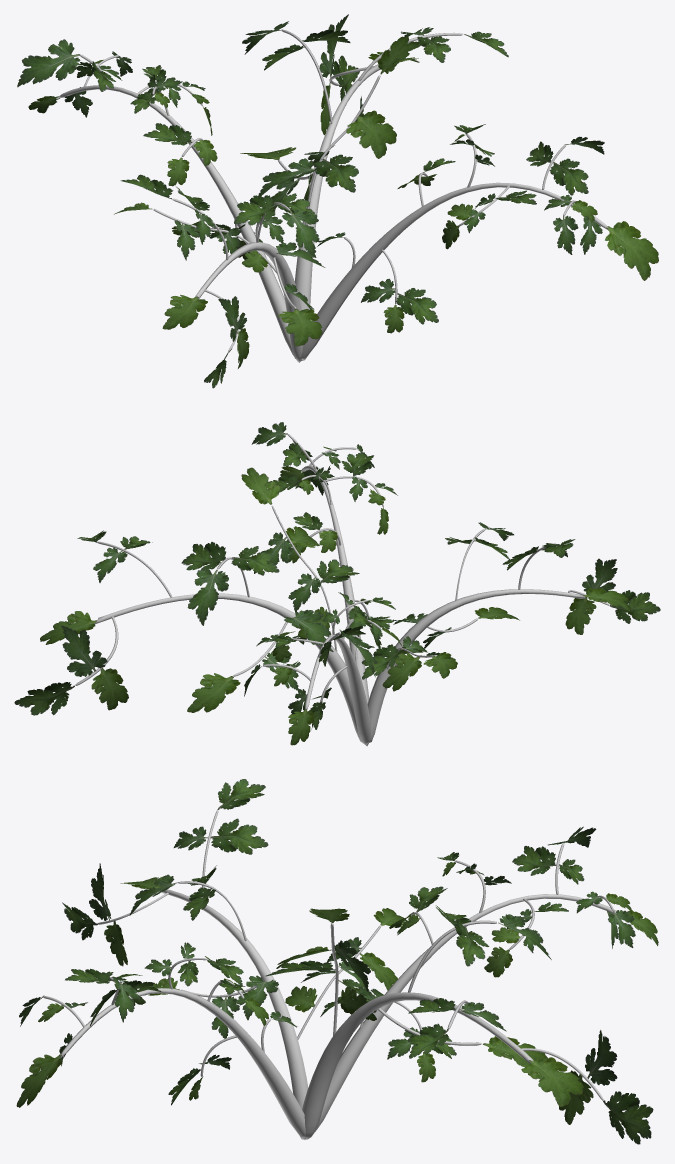
The model's file is folliage_01.FBX.
3 views of the same model, one above another, from view 1: azimuth 30°, elevation 25°; view 2: azimuth 150°, elevation 25°; view 3: azimuth 270°, elevation 25° (orthographic). The views are drawn at different scales.
Parts seen in each view (by area): view 1: Leaf_A_011; view 2: Leaf_A_011; view 3: Leaf_A_011.
Boxes of the visible parts, <box> form: Leaf_A_011: <box>17,14,658,388</box>; Leaf_A_011: <box>14,422,660,746</box>; Leaf_A_011: <box>16,779,658,1144</box>.
Bounding box in the file's own units: 16.99 × 9.65 × 19.02.
